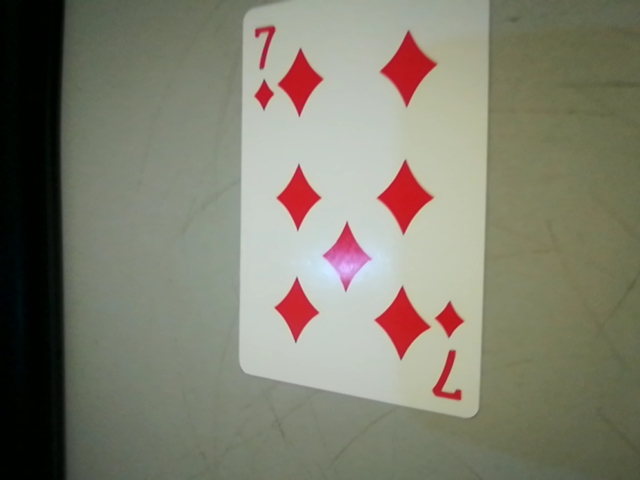fk 7: (426, 297, 479, 413)
